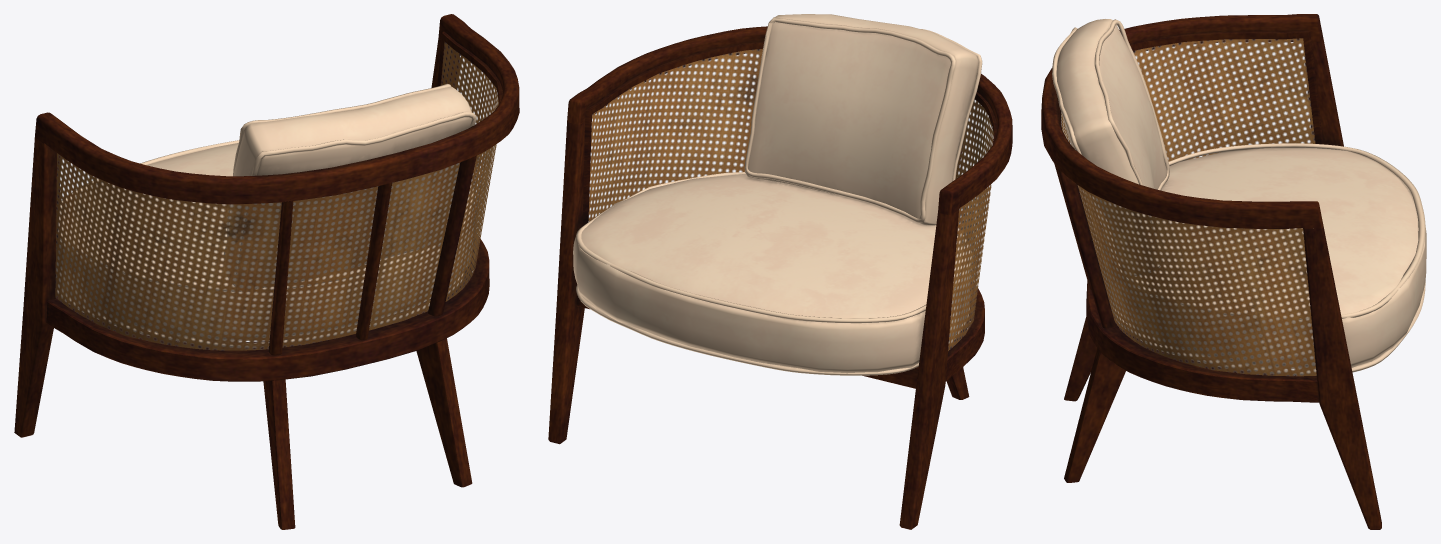
The model's file is armchair13.glb.
The picture shows the model from 3 angles, left to right: view 1: azimuth 30°, elevation 25°; view 2: azimuth 150°, elevation 25°; view 3: azimuth 270°, elevation 25°; orthographic projection. The views are drawn at different scales.
Parts seen in each view (by area): view 1: Object_2; view 2: Object_2; view 3: Object_2.
Part boxes in pixels (left/top/right/bottom): Object_2: left=14, top=14, right=519, bottom=529; Object_2: left=548, top=14, right=1012, bottom=529; Object_2: left=1041, top=14, right=1426, bottom=529.
Bounding box in the file's own units: 73.14 × 65.73 × 61.4.
Materials: 1 (1 with a texture image).
